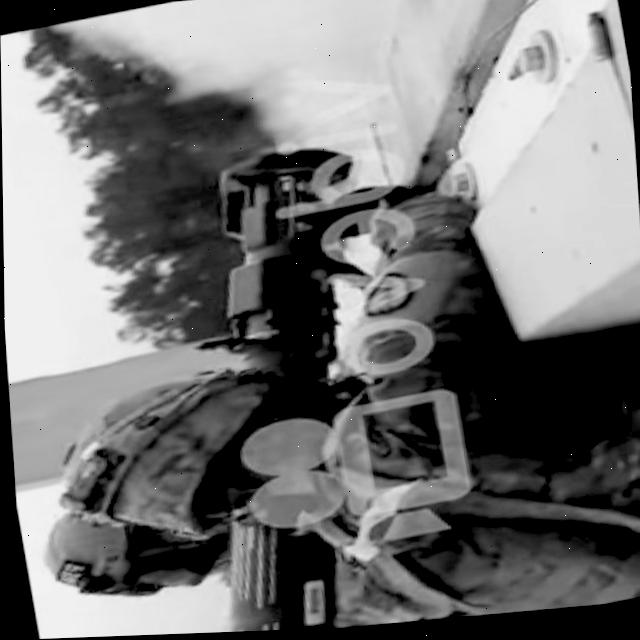rocket: (152, 137, 423, 636)
